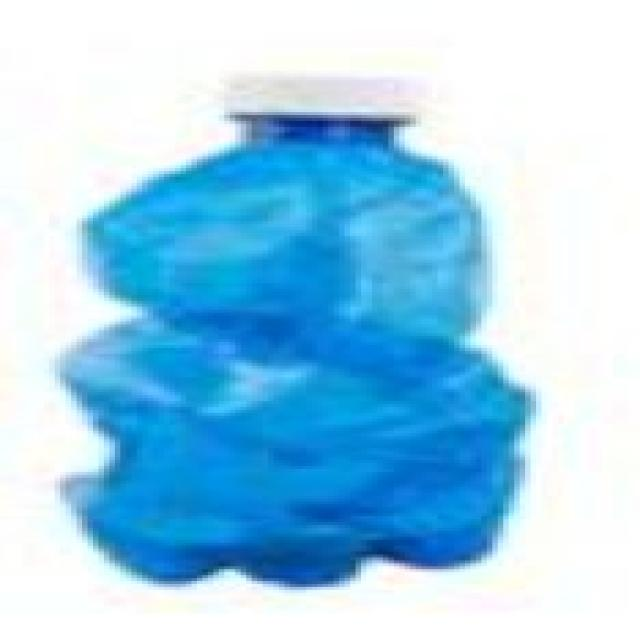general: (49, 70, 536, 586)
